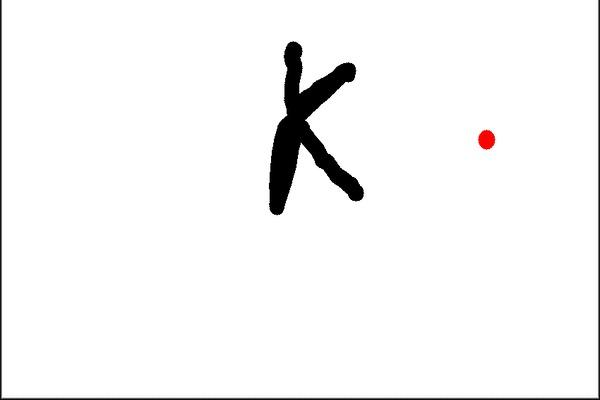K: (262, 35, 369, 223)
